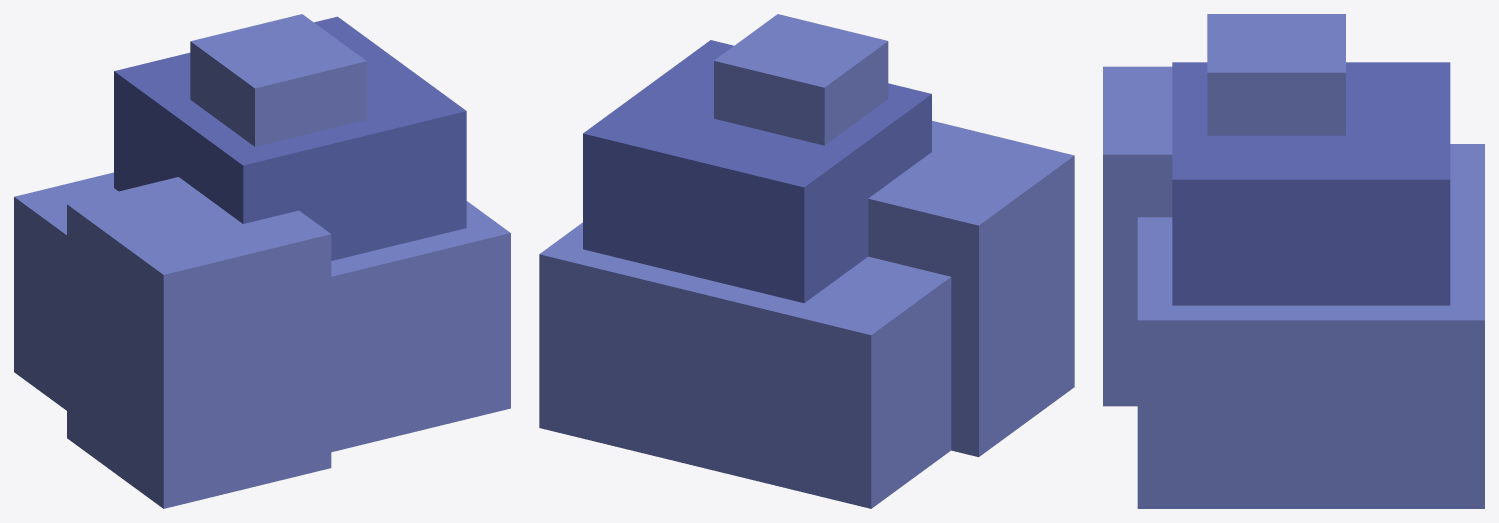
Rendered from Rock.glb.
The picture shows the model from 3 angles, left to right: view 1: azimuth 30°, elevation 25°; view 2: azimuth 150°, elevation 25°; view 3: azimuth 270°, elevation 25°; orthographic projection. The views are drawn at different scales.
Parts seen in each view (by area): view 1: Rock; view 2: Rock; view 3: Rock.
Boxes of the visible parts, box(x1,y1,x2,y2) form: Rock: box(14, 14, 510, 508); Rock: box(539, 14, 1074, 508); Rock: box(1103, 14, 1484, 508).
Bounding box in the file's own units: 6.5 × 6 × 5.5.
Materials: 1 (1 with a texture image).
